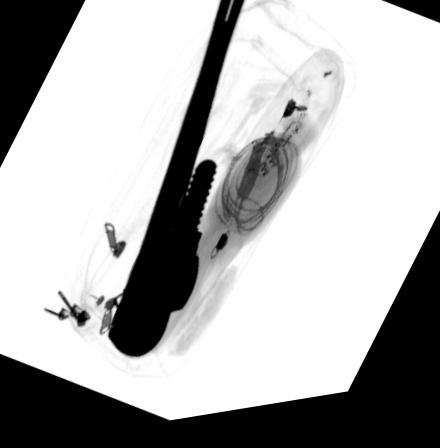Wrench: (103, 0, 248, 366)
